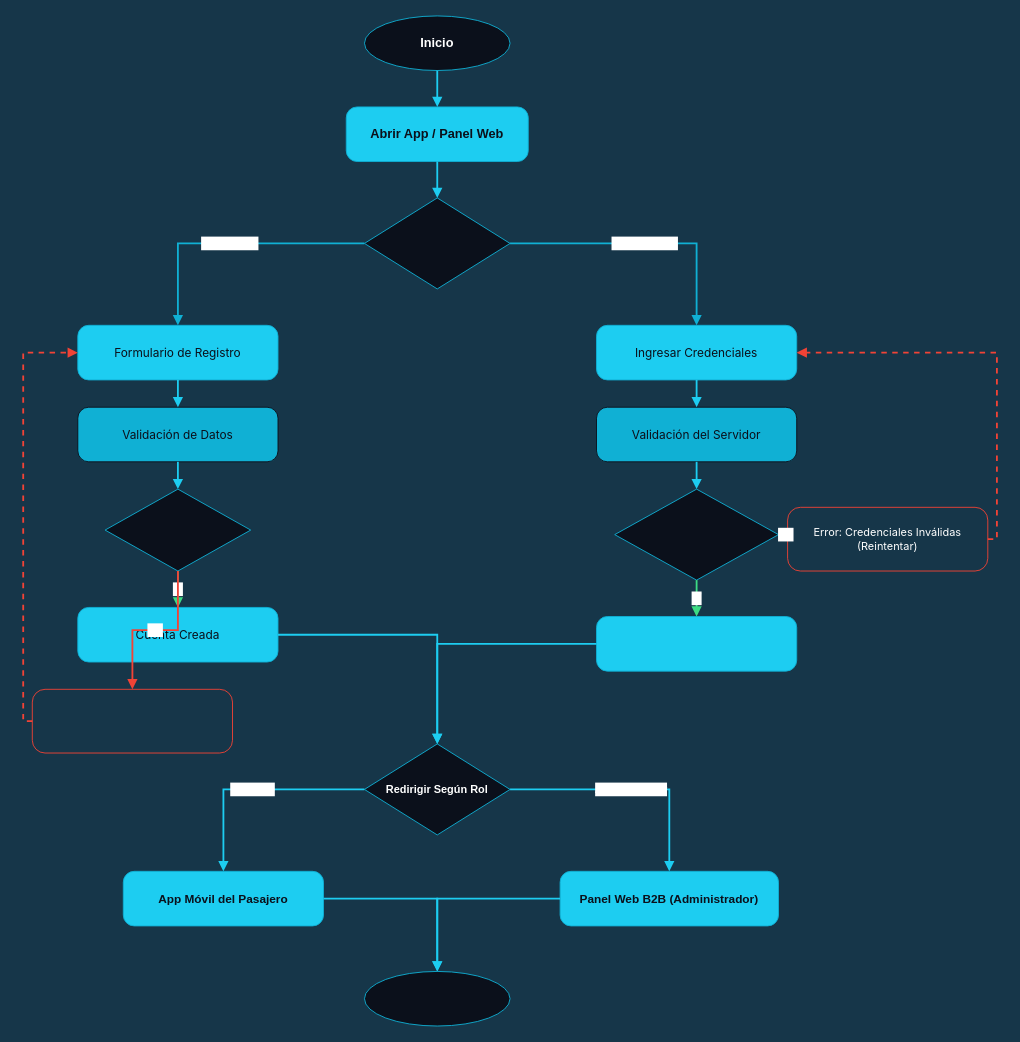
The diagram is 1020 pixels wide and 1042 high, and some of its shapes have lost their labels. The centre of each missing label's shape, as x and y in pixels:
"Error: Datos Inválidos / Correo Duplicado" goes at point 132,720.
"Fin" goes at point 437,998.
"Generar Token de Sesión" goes at point 696,643.
"¿Credenciales Correctas?" goes at point 696,534.
"¿Datos Válidos?" goes at point 177,529.
"¿Usuario Registrado?" goes at point 437,243.
